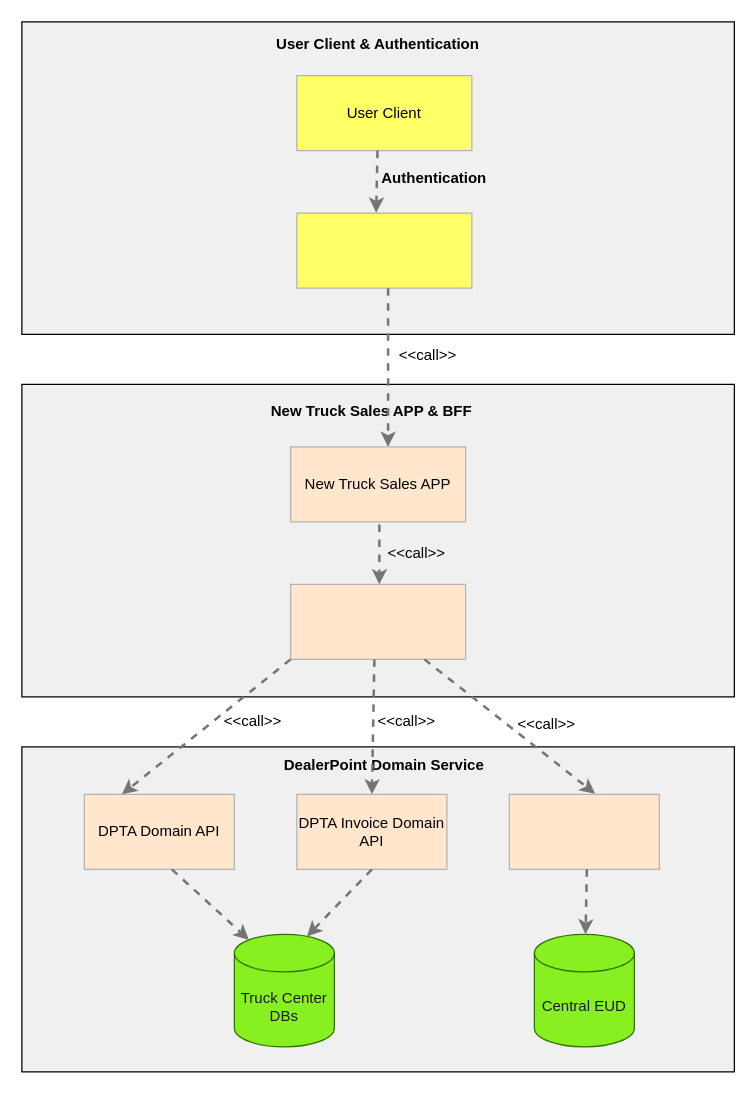
Image size: 756x1094. Some labels were removed from this diagram. The centre of each missing label's shape, as x and y in pixels:
"Admin API" belongs at pixel 583 831.
"DPTA BFF" belongs at pixel 377 621.
"Ping Access" belongs at pixel 384 250.
